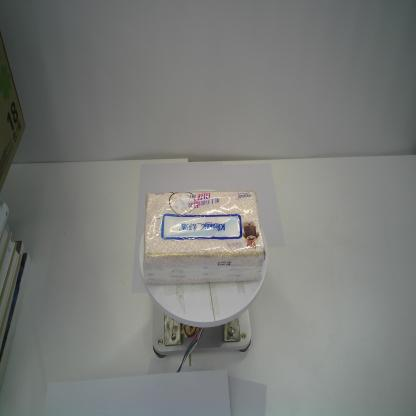Tissue: (142, 191, 264, 285)
